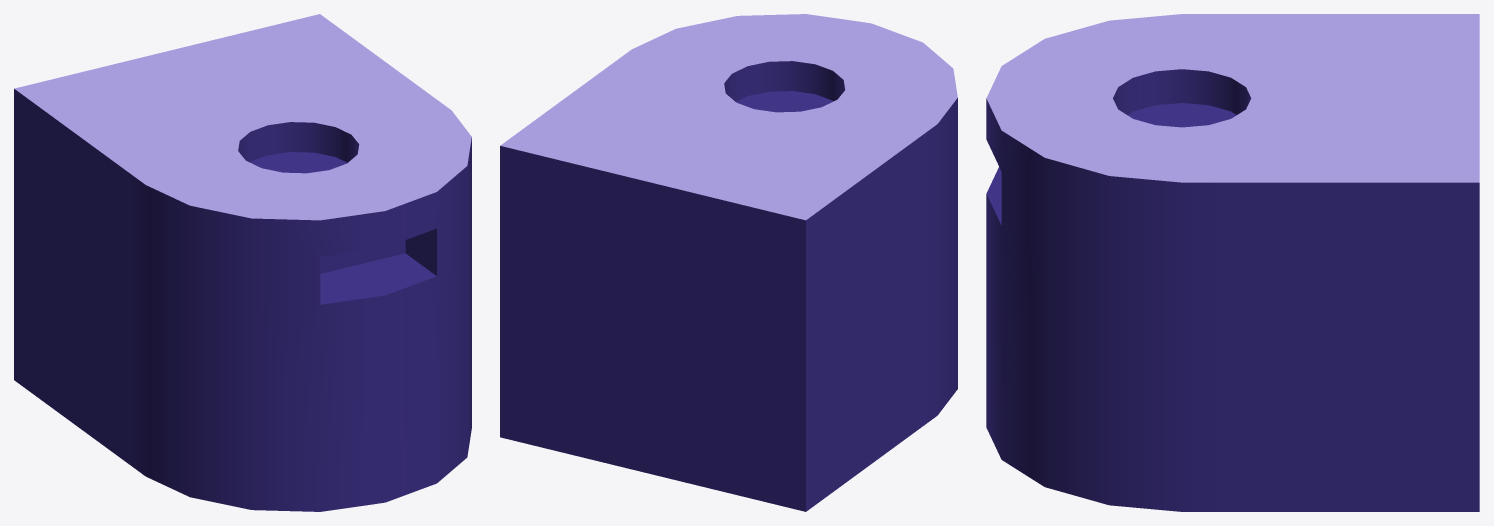
3 renders of one model, left to right at view 1: azimuth 30°, elevation 25°; view 2: azimuth 150°, elevation 25°; view 3: azimuth 270°, elevation 25°, orthographic. The views are drawn at different scales.
Visible parts, largest first — view 1: Stone.Carb; view 2: Stone.Carb; view 3: Stone.Carb.
Part boxes in pixels (left/top/right/bottom): Stone.Carb: left=14, top=14, right=471, bottom=511; Stone.Carb: left=500, top=14, right=957, bottom=511; Stone.Carb: left=986, top=14, right=1479, bottom=511.
Bounding box in the file's own units: 246 × 224 × 304.
